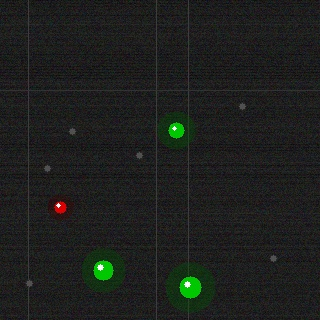green_normal: (177, 274, 203, 300), (91, 258, 115, 282), (166, 120, 186, 140)
red_fault: (52, 199, 68, 215)
